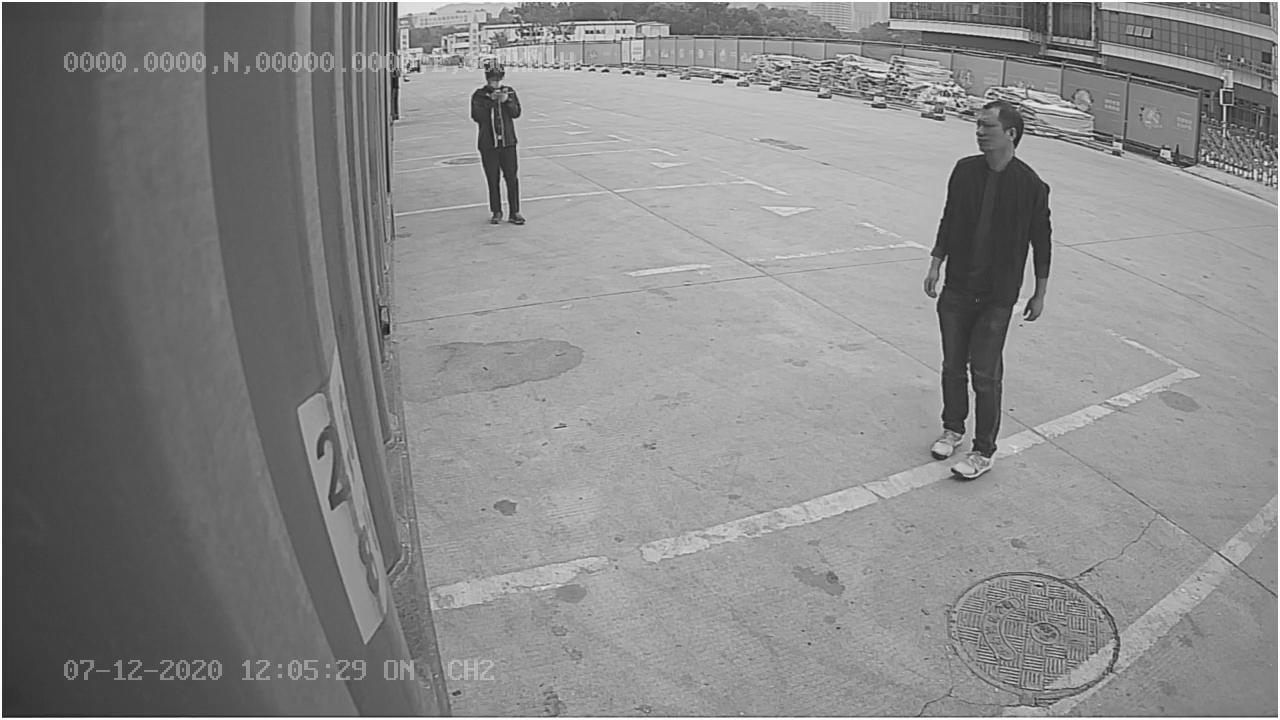person: (920, 90, 1057, 479)
